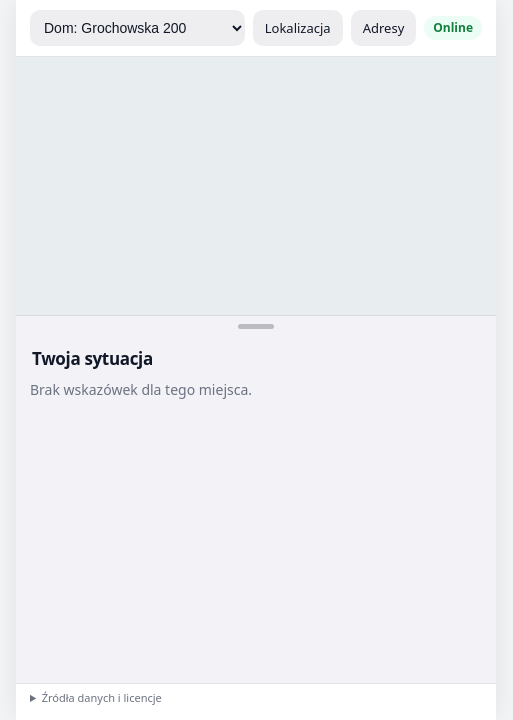
Test: pasek › przycisk „Lokalizacja” dodaje miejsce na początek listy i je wybiera
Expected: the dropdown named "Wybrane miejsce" shows "Dom: Grochowska 200", [30, 10, 245, 46]
Click the button with aria-label "Użyj mojej lokalizacji".
click(298, 28)  # box [253, 10, 343, 46]
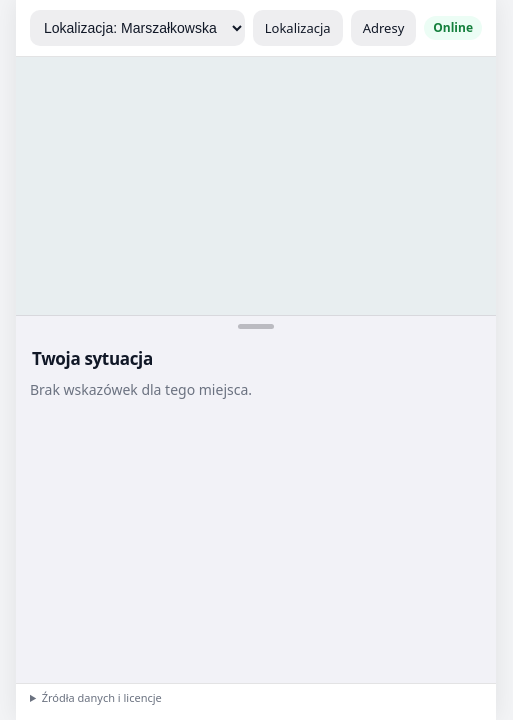
Expected: the dropdown named "Wybrane miejsce" shows "Lokalizacja: Marszałkowska 1", [30, 10, 245, 46]
